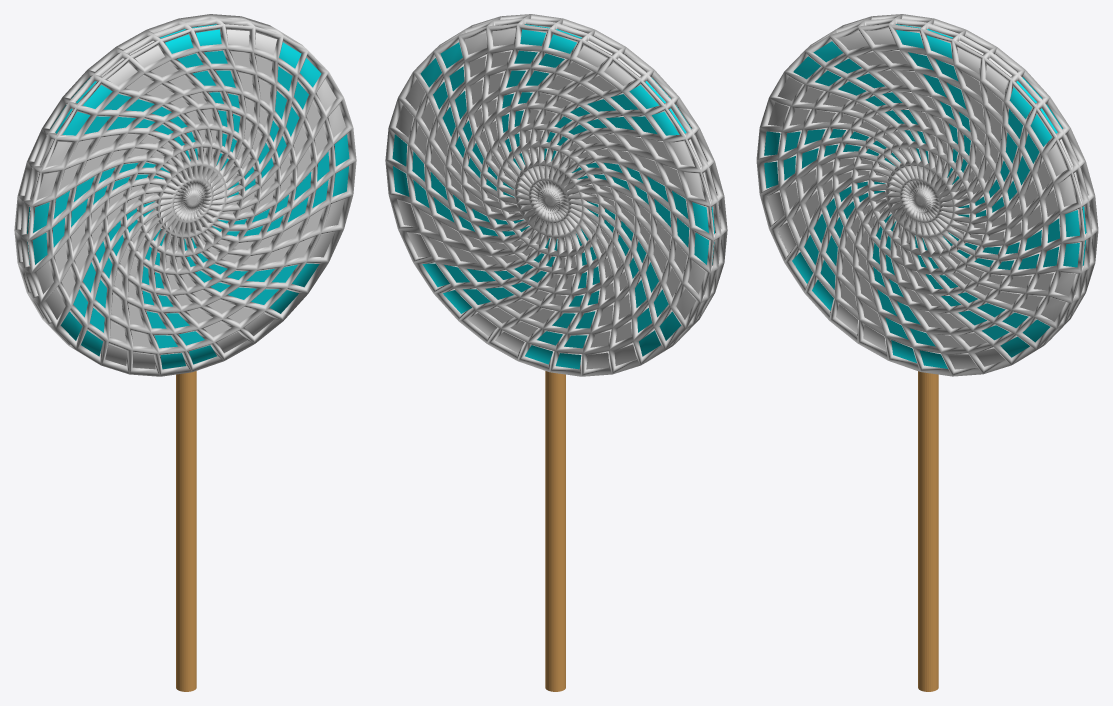
File: PIRULETA CON LUCES 1.fbx
3 views of the same model, side by side, from view 1: azimuth 30°, elevation 25°; view 2: azimuth 150°, elevation 25°; view 3: azimuth 330°, elevation 25° (orthographic).
Parts seen in each view (by area): view 1: Piruleta 2.004; view 2: Piruleta 2.004; view 3: Piruleta 2.004.
Part boxes in pixels (x1=…): Piruleta 2.004: x1=14, y1=14, x2=356, y2=691; Piruleta 2.004: x1=385, y1=14, x2=727, y2=691; Piruleta 2.004: x1=756, y1=14, x2=1098, y2=691.
Size of the model in its own units: 548 by 1055 by 43.17.
